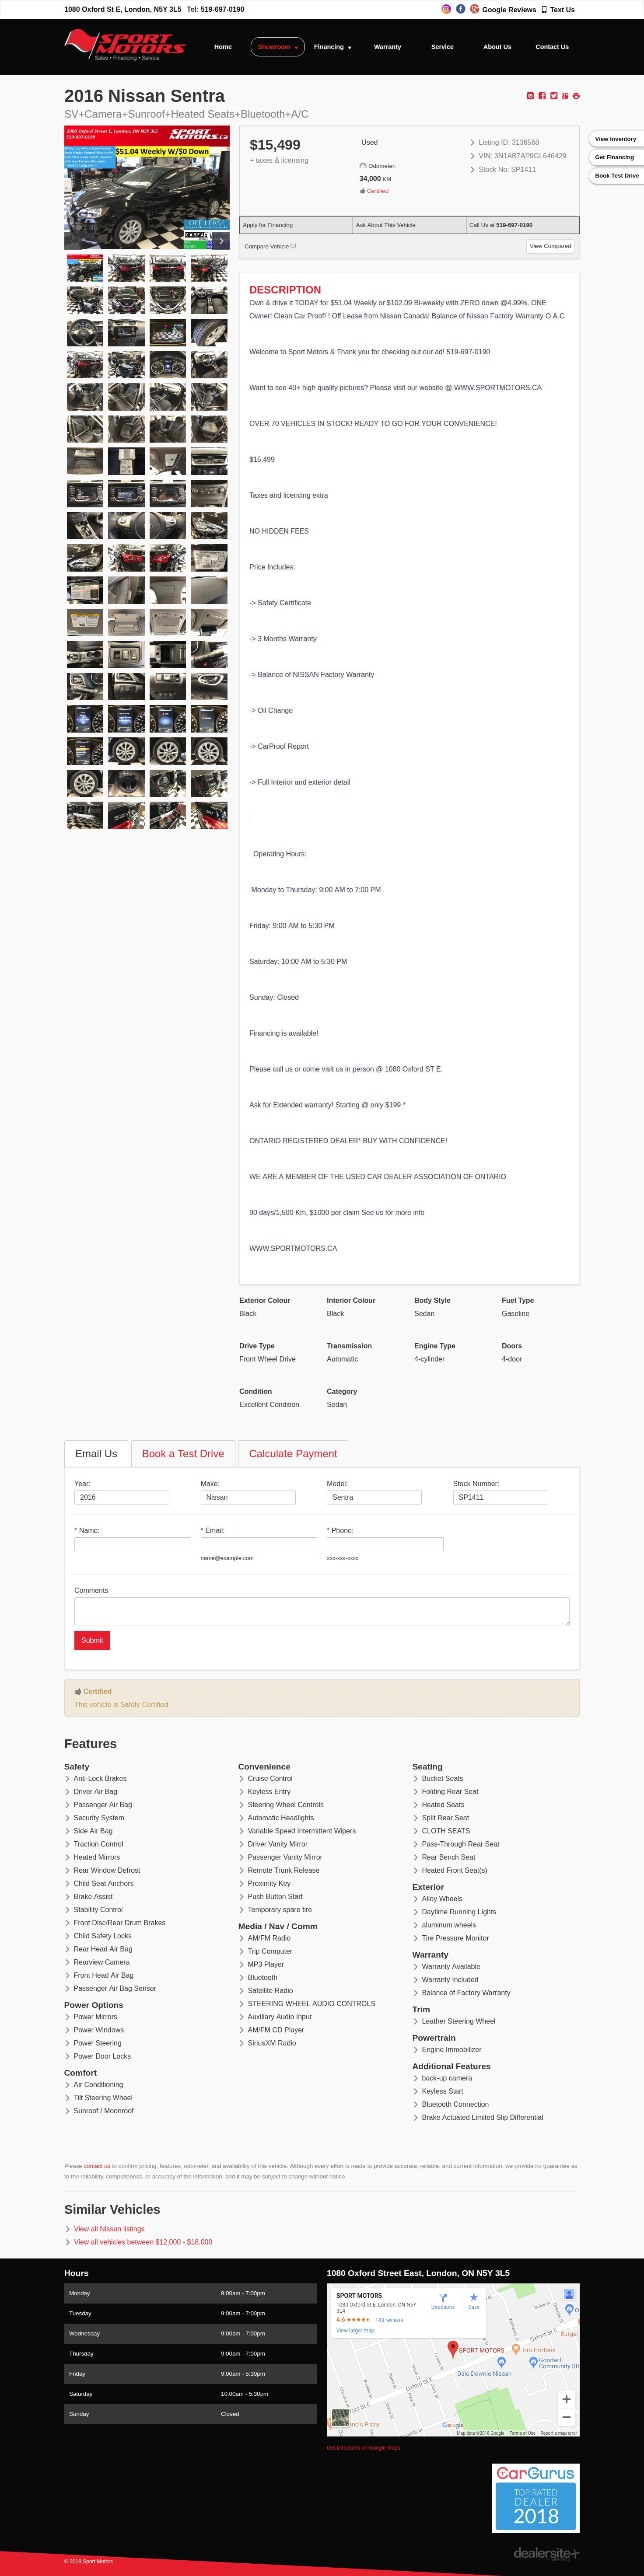car: (220, 238, 223, 245)
